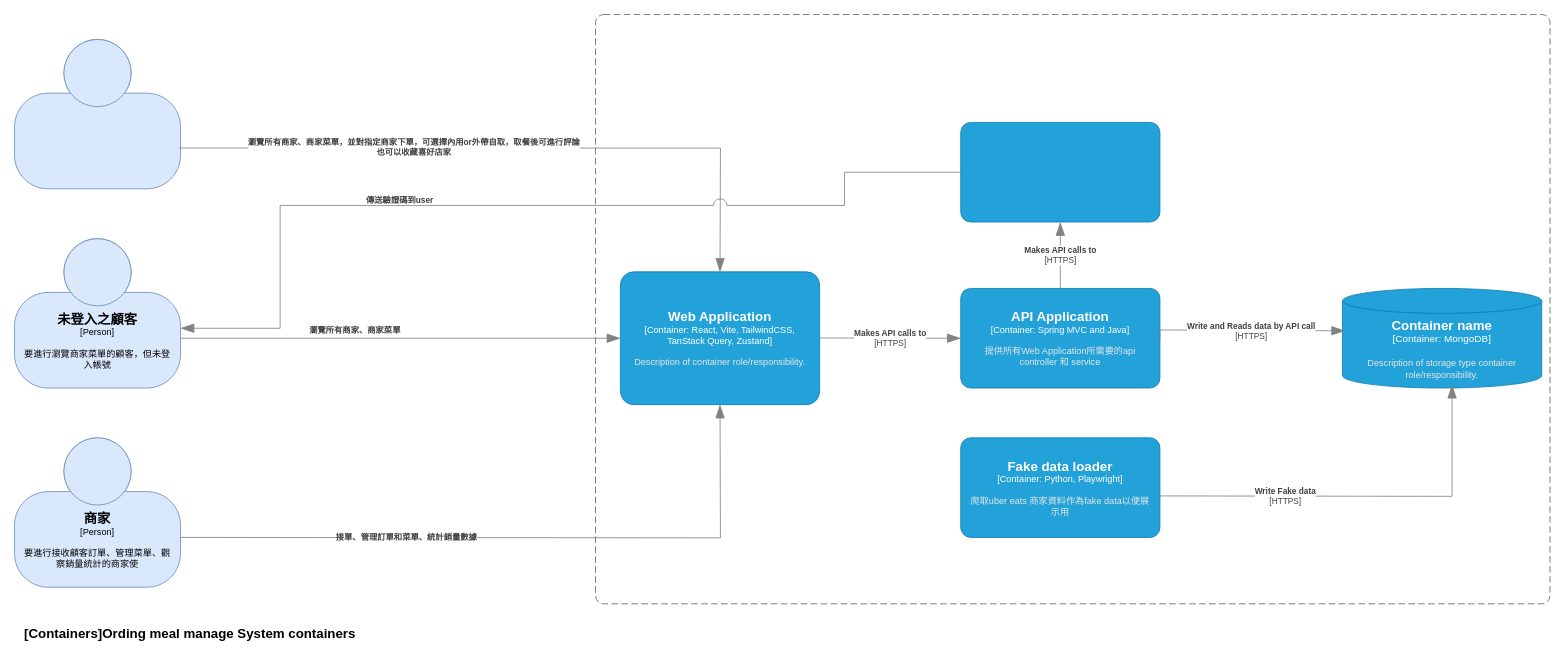
Image size: 1565x668. Some labels were removed from this diagram. Here are the shapes that lost their labels. From the top down, the box of each, then its label:
(14, 39, 181, 189): 登入之顧客 [Person] 要進行瀏覽商家菜單並點餐、收藏店家的顧客，且已登入帳號
(960, 122, 1160, 222): Email validation sender [Container: Java] 對於使用者註冊帳號時發送email驗證的service
(595, 14, 1550, 604): Ording meal manage System [Software System]
